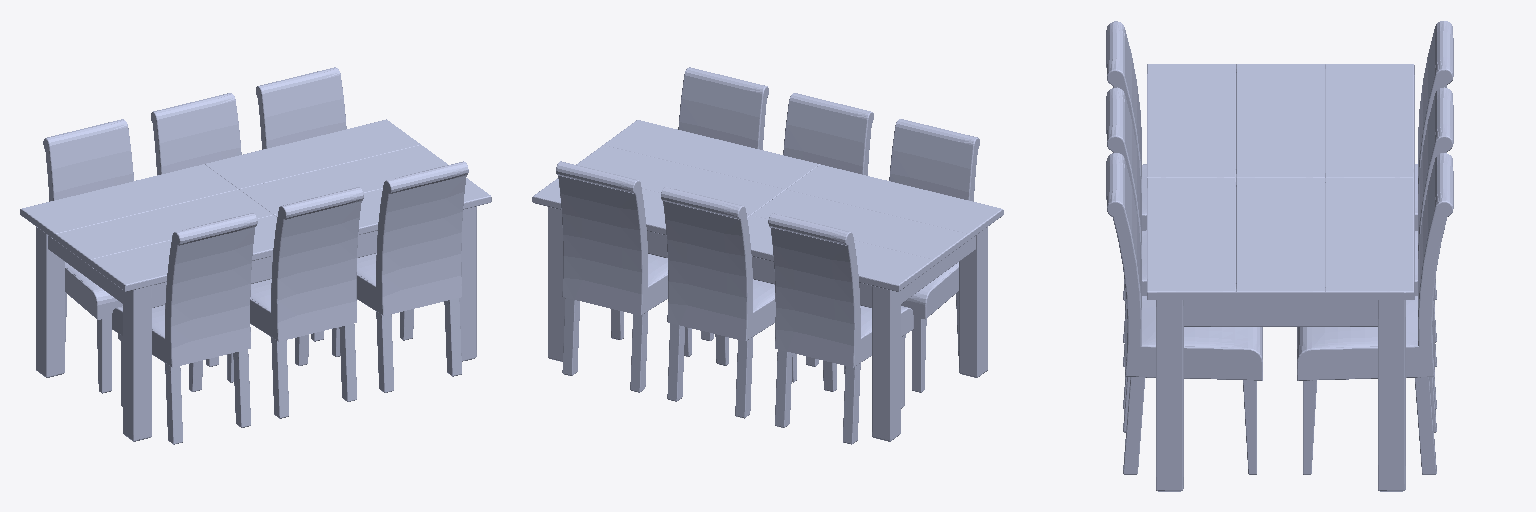
robot.urdf — table_and_chairs:
<robot
  name="table_and_chairs">
  <link
    name="table_and_chairs">
    <inertial>
      <origin
        xyz="0.0007002 -0.00149560000000001 -0.19835"
        rpy="0 0 0" />
      <mass
        value="335" />
      <inertia
        ixx="59.3903760564234"
        ixy="-0.0572901611115046"
        ixz="-0.00984754956569911"
        iyy="101.54969897936"
        iyz="-0.0209394890338555"
        izz="131.702801803247" />
    </inertial>
    <visual>
      <origin
        xyz="0 0 0"
        rpy="0 0 0" />
      <geometry>
        <mesh
          filename="package://table_and_chairs/meshes/table_and_chairs.dae" />
      </geometry>
      <material
        name="">
        <color
          rgba="0.79216 0.81961 0.93333 1" />
      </material>
    </visual>
    <collision>
      <origin
        xyz="0 0 0"
        rpy="0 0 0" />
      <geometry>
        <mesh
          filename="package://table_and_chairs/meshes/table_and_chairs.dae" />
      </geometry>
    </collision>
  </link>
</robot>

--- Render facts (derived) ---
The picture shows the robot from 3 angles, left to right: view 1: azimuth 30°, elevation 25°; view 2: azimuth 150°, elevation 25°; view 3: azimuth 270°, elevation 25°; orthographic projection.
Model table_and_chairs with 1 links and 0 joints (none), rooted at table_and_chairs, posed all joints at 0.
Visible links, largest first — view 1: table_and_chairs; view 2: table_and_chairs; view 3: table_and_chairs.
Boxes of the visible links, x1=… form: table_and_chairs: x1=20, y1=67, x2=491, y2=444; table_and_chairs: x1=532, y1=67, x2=1003, y2=444; table_and_chairs: x1=1106, y1=21, x2=1453, y2=491.
Size in the robot's own frame: 1.83 by 1.18 by 1.03 metres.
1 mesh visuals loaded from 1 distinct referenced files (1 Collada DAE).